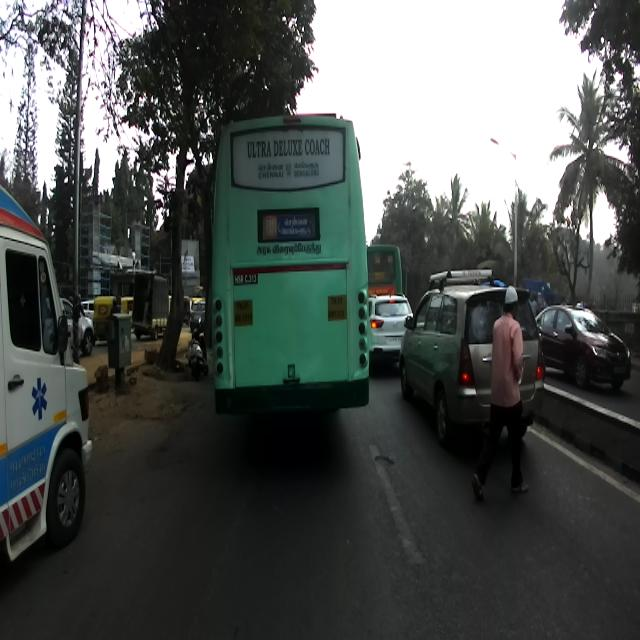barrier ahead at: (108, 306, 134, 394)
bus ahead at: (212, 125, 367, 402)
car ahead at: (402, 271, 545, 453)
motorcycle ahead at: (184, 314, 210, 381)
person ahead at: (476, 285, 532, 505)
tree ahead at: (137, 29, 191, 378)
